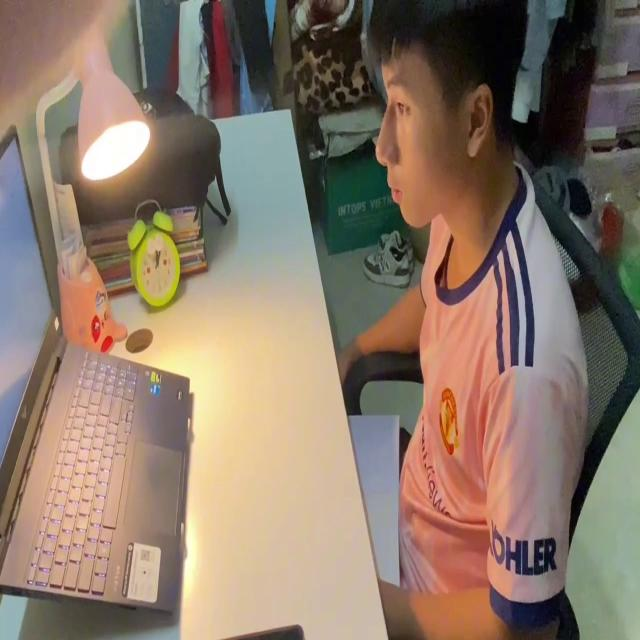book: (346, 406, 406, 598)
laptop: (0, 120, 193, 621)
phone: (208, 619, 309, 640)
student: (333, 0, 592, 640)
